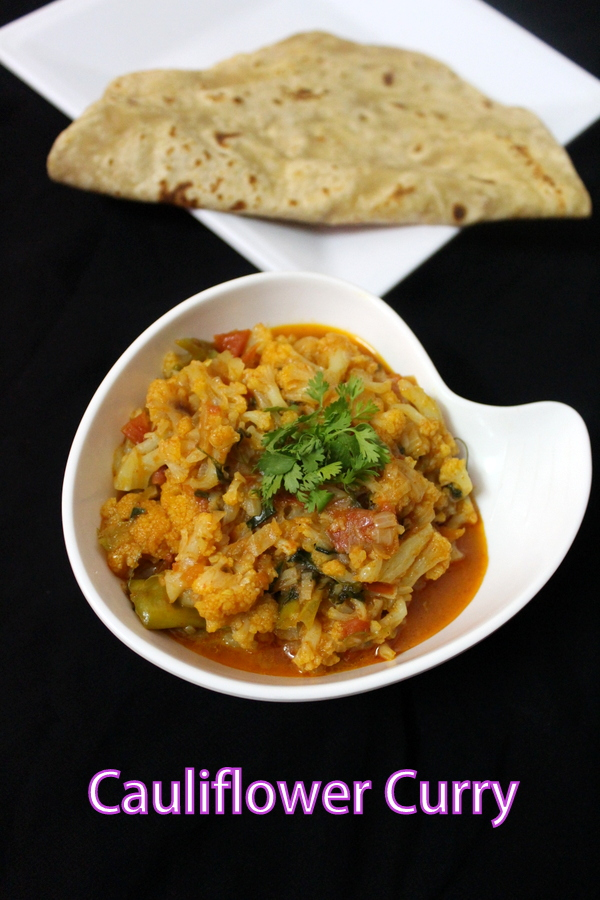curry: (90, 323, 487, 668)
roti: (41, 22, 595, 237)
